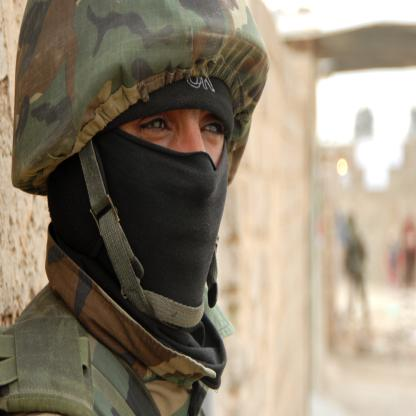Helmet: (20, 1, 284, 339)
